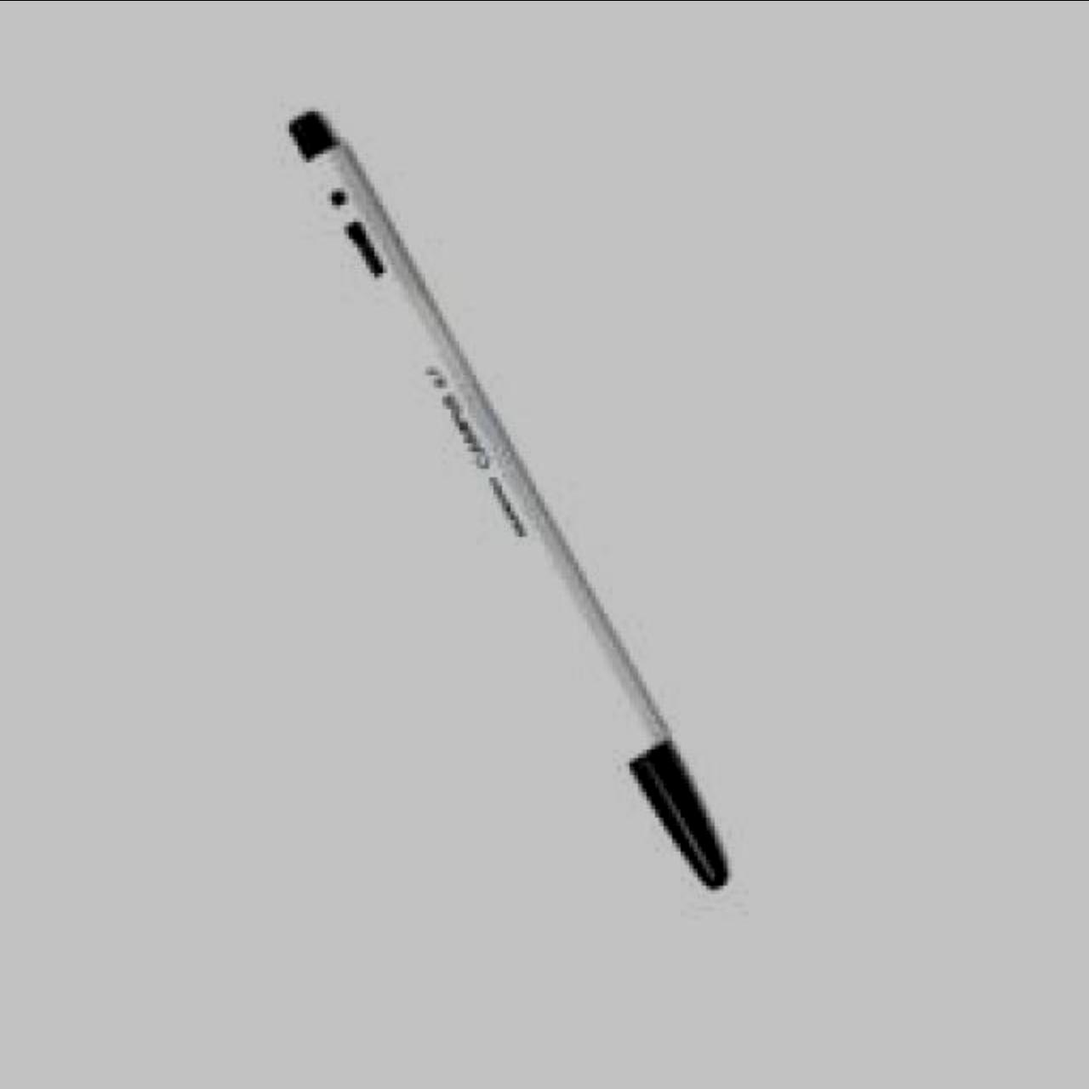pen: (281, 107, 749, 898)
